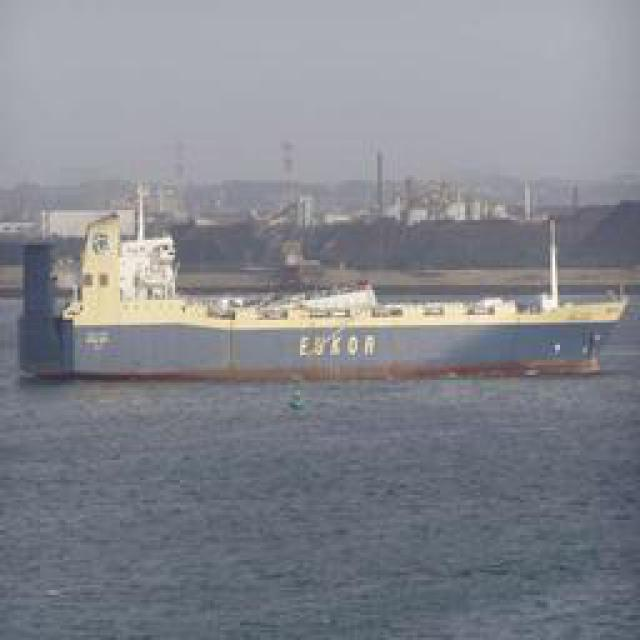Ship: (9, 207, 629, 387)
